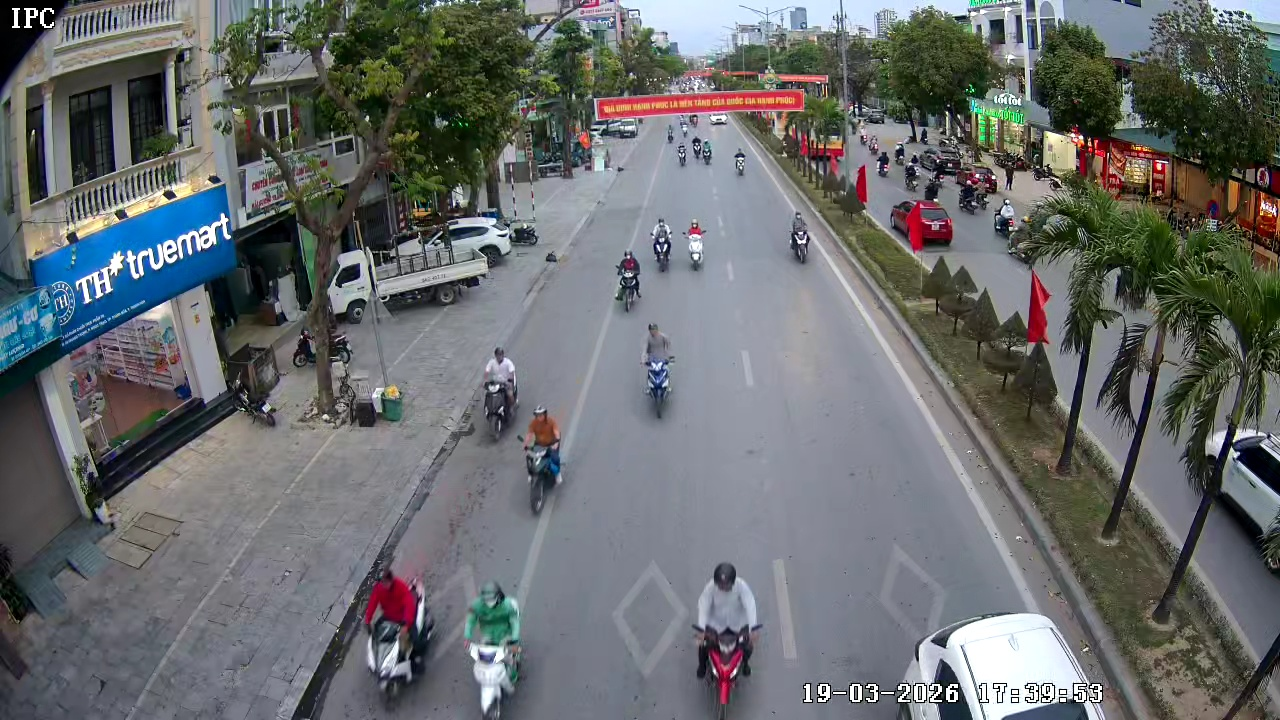car: (889, 609, 1110, 719), (1211, 427, 1279, 587), (890, 198, 956, 248)
motorbike: (690, 559, 765, 719), (363, 557, 436, 713), (462, 580, 530, 719), (517, 403, 567, 515), (480, 343, 521, 442), (638, 321, 678, 420), (613, 246, 643, 314), (682, 217, 709, 272), (649, 216, 674, 273), (787, 211, 813, 264), (732, 147, 747, 178), (699, 136, 714, 166), (675, 137, 688, 167)
